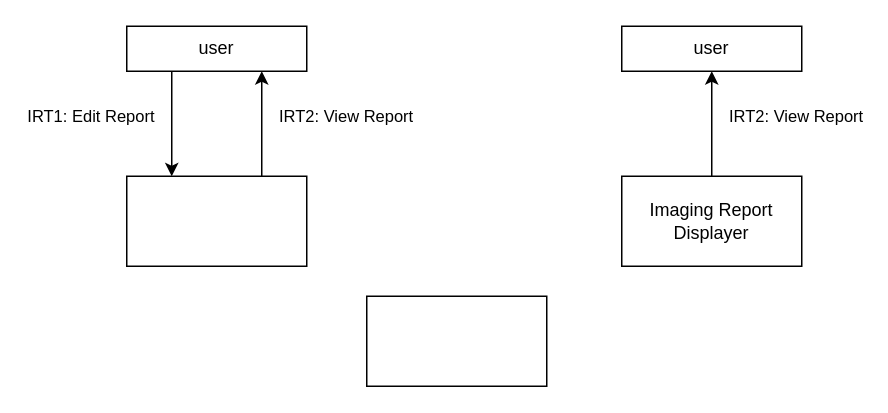
Some shapes in this 888 by 413 pixel diagram are drawn without their labels. Each missing label, with the box of its shape:
Imaging Report Creator: (125, 175, 307, 266)
Imaging Report Processor: (365, 295, 547, 386)
